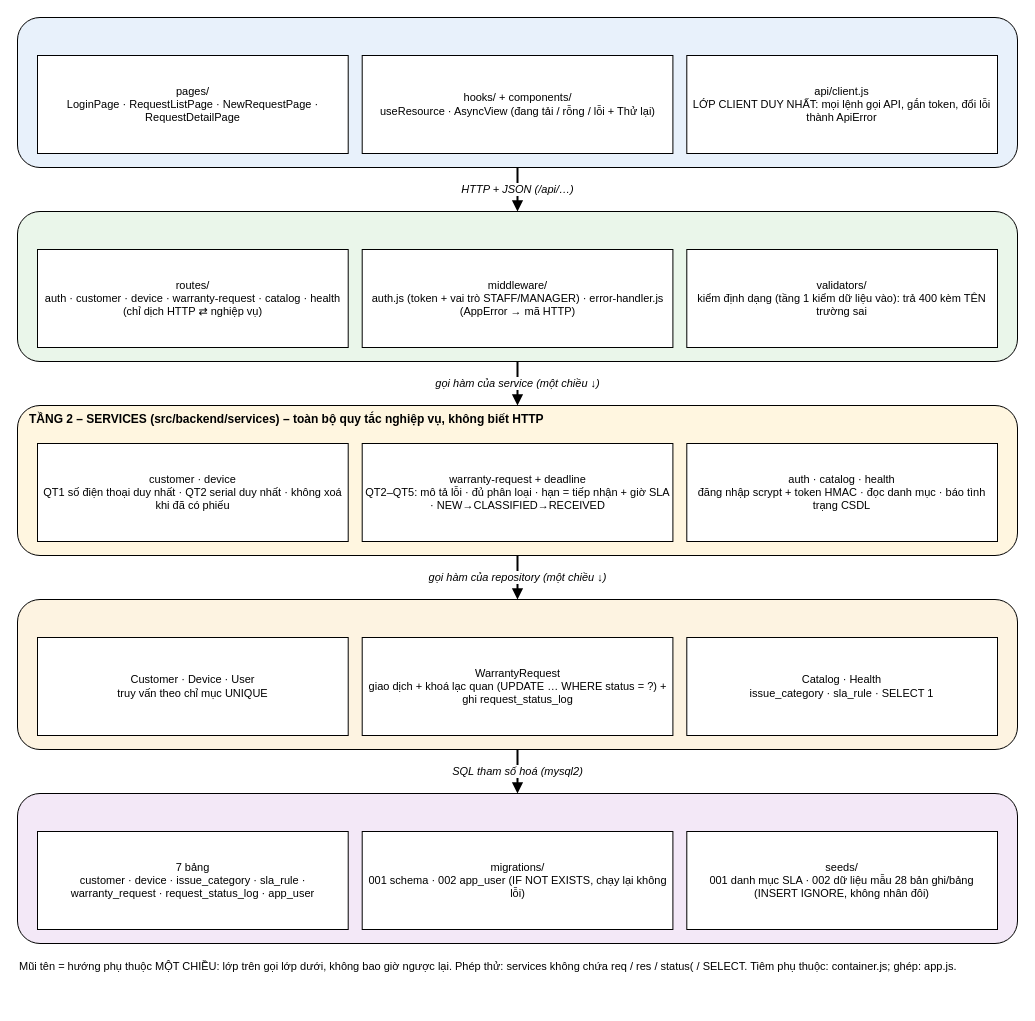
The diagram is 1035 pixels wide and 1021 high, and some of its shapes have lost their labels. Each missing label, with the box of its shape:
GIAO DIỆN – React + Vite (src/frontend/src): (16, 16, 1018, 168)
LƯU TRỮ – MySQL / MariaDB (migrations/ + seeds/): (16, 792, 1018, 944)
TẦNG 1 – ROUTES + MIDDLEWARE (src/backend/routes, middleware): (16, 210, 1018, 362)
TẦNG 3 – REPOSITORIES (src/backend/repositories) – chỉ đọc/ghi, SQL tham số hoá: (16, 598, 1018, 750)
